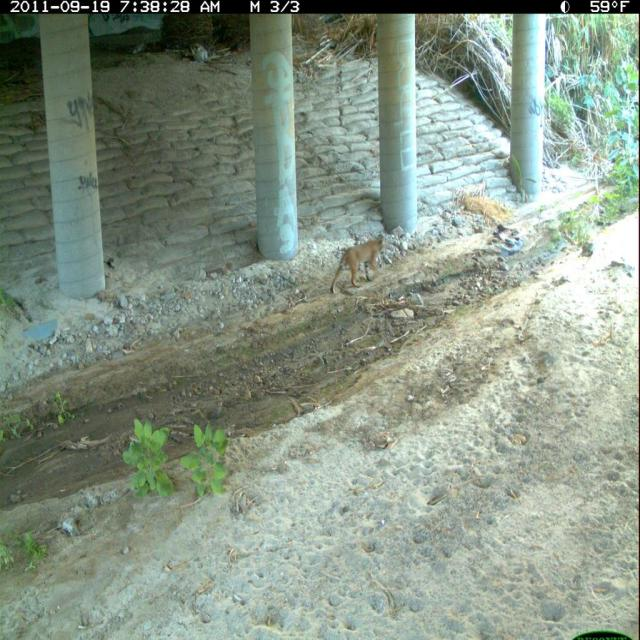bobcat: (327, 230, 392, 298)
